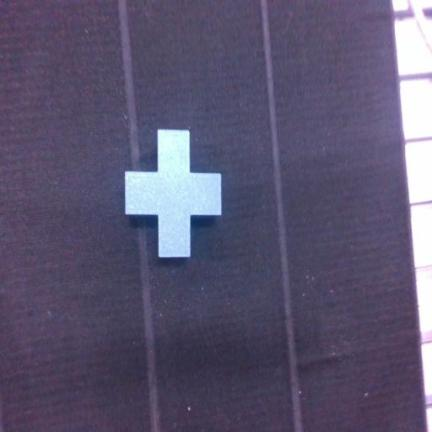cross: (125, 130, 221, 257)
